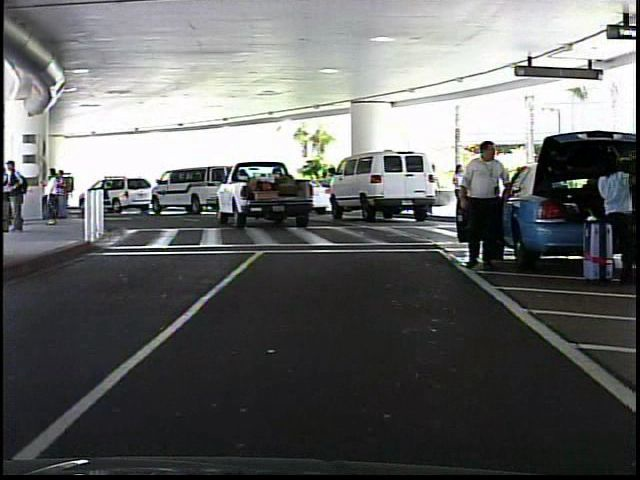person: (453, 137, 511, 274), (590, 147, 640, 280), (450, 159, 470, 216)
